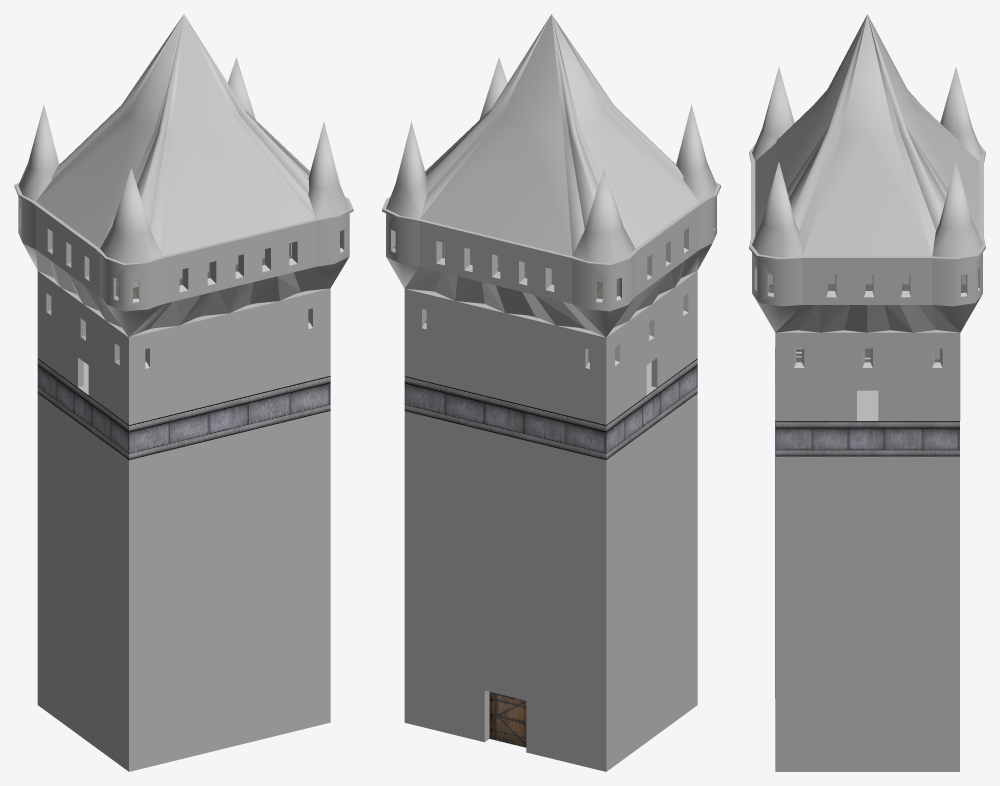
File: WallTower1.FBX
The picture shows the model from 3 angles, left to right: view 1: azimuth 30°, elevation 25°; view 2: azimuth 150°, elevation 25°; view 3: azimuth 270°, elevation 25°; orthographic projection.
Visible parts, largest first — view 1: TowerWall1; view 2: TowerWall1; view 3: TowerWall1.
Part boxes in pixels (<box>): TowerWall1: <box>14,14,353,771</box>; TowerWall1: <box>382,14,720,771</box>; TowerWall1: <box>749,14,985,771</box>.
Size of the model in its own units: 242 by 664 by 201.
